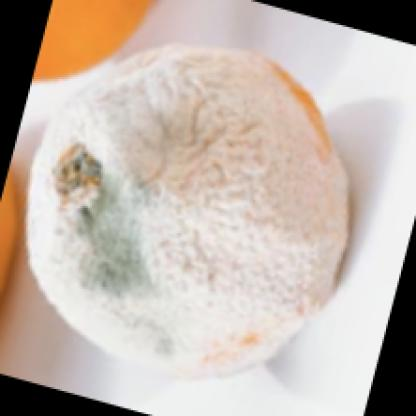rotten: (27, 44, 351, 387)
